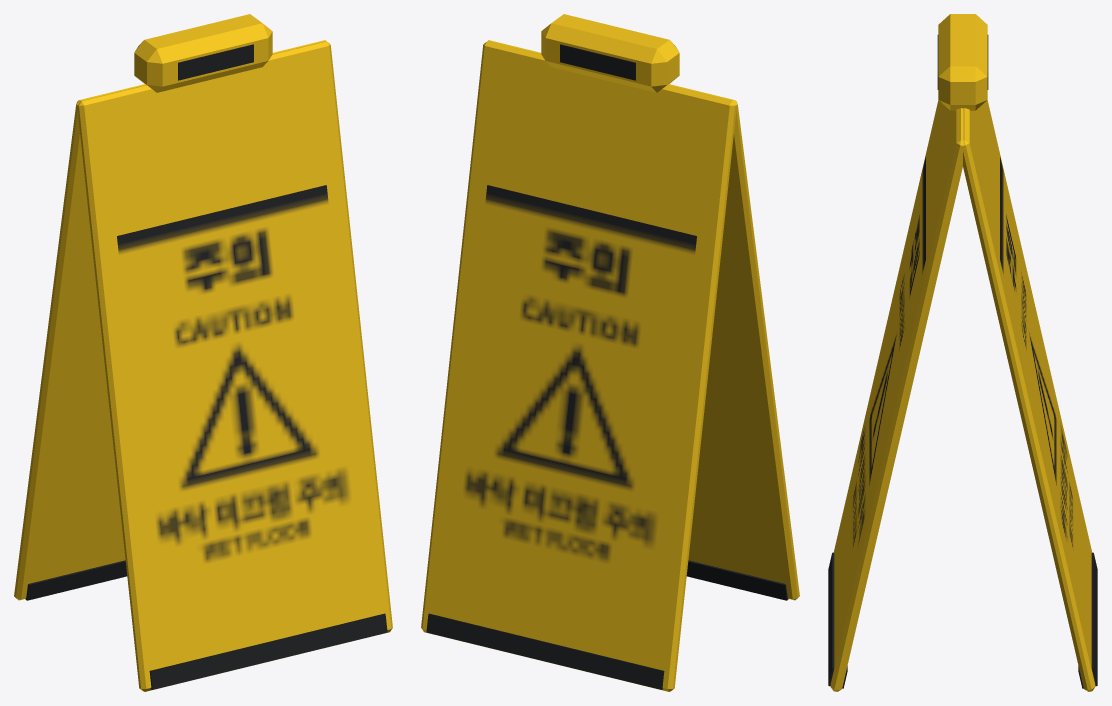
File: SC_Fix_Wet_Floor_Sign.gltf
3 views of the same model, side by side, from view 1: azimuth 30°, elevation 25°; view 2: azimuth 150°, elevation 25°; view 3: azimuth 270°, elevation 25° (orthographic).
Parts seen in each view (by area): view 1: SC_Fix_Wet_Floor_Sign; view 2: SC_Fix_Wet_Floor_Sign; view 3: SC_Fix_Wet_Floor_Sign.
Boxes of the visible parts, x1=… form: SC_Fix_Wet_Floor_Sign: x1=14, y1=14, x2=392, y2=691; SC_Fix_Wet_Floor_Sign: x1=421, y1=14, x2=799, y2=691; SC_Fix_Wet_Floor_Sign: x1=828, y1=14, x2=1097, y2=691.
Size of the model in its own units: 0.3 by 0.6654 by 0.2748.
2 materials, 2 textured.
